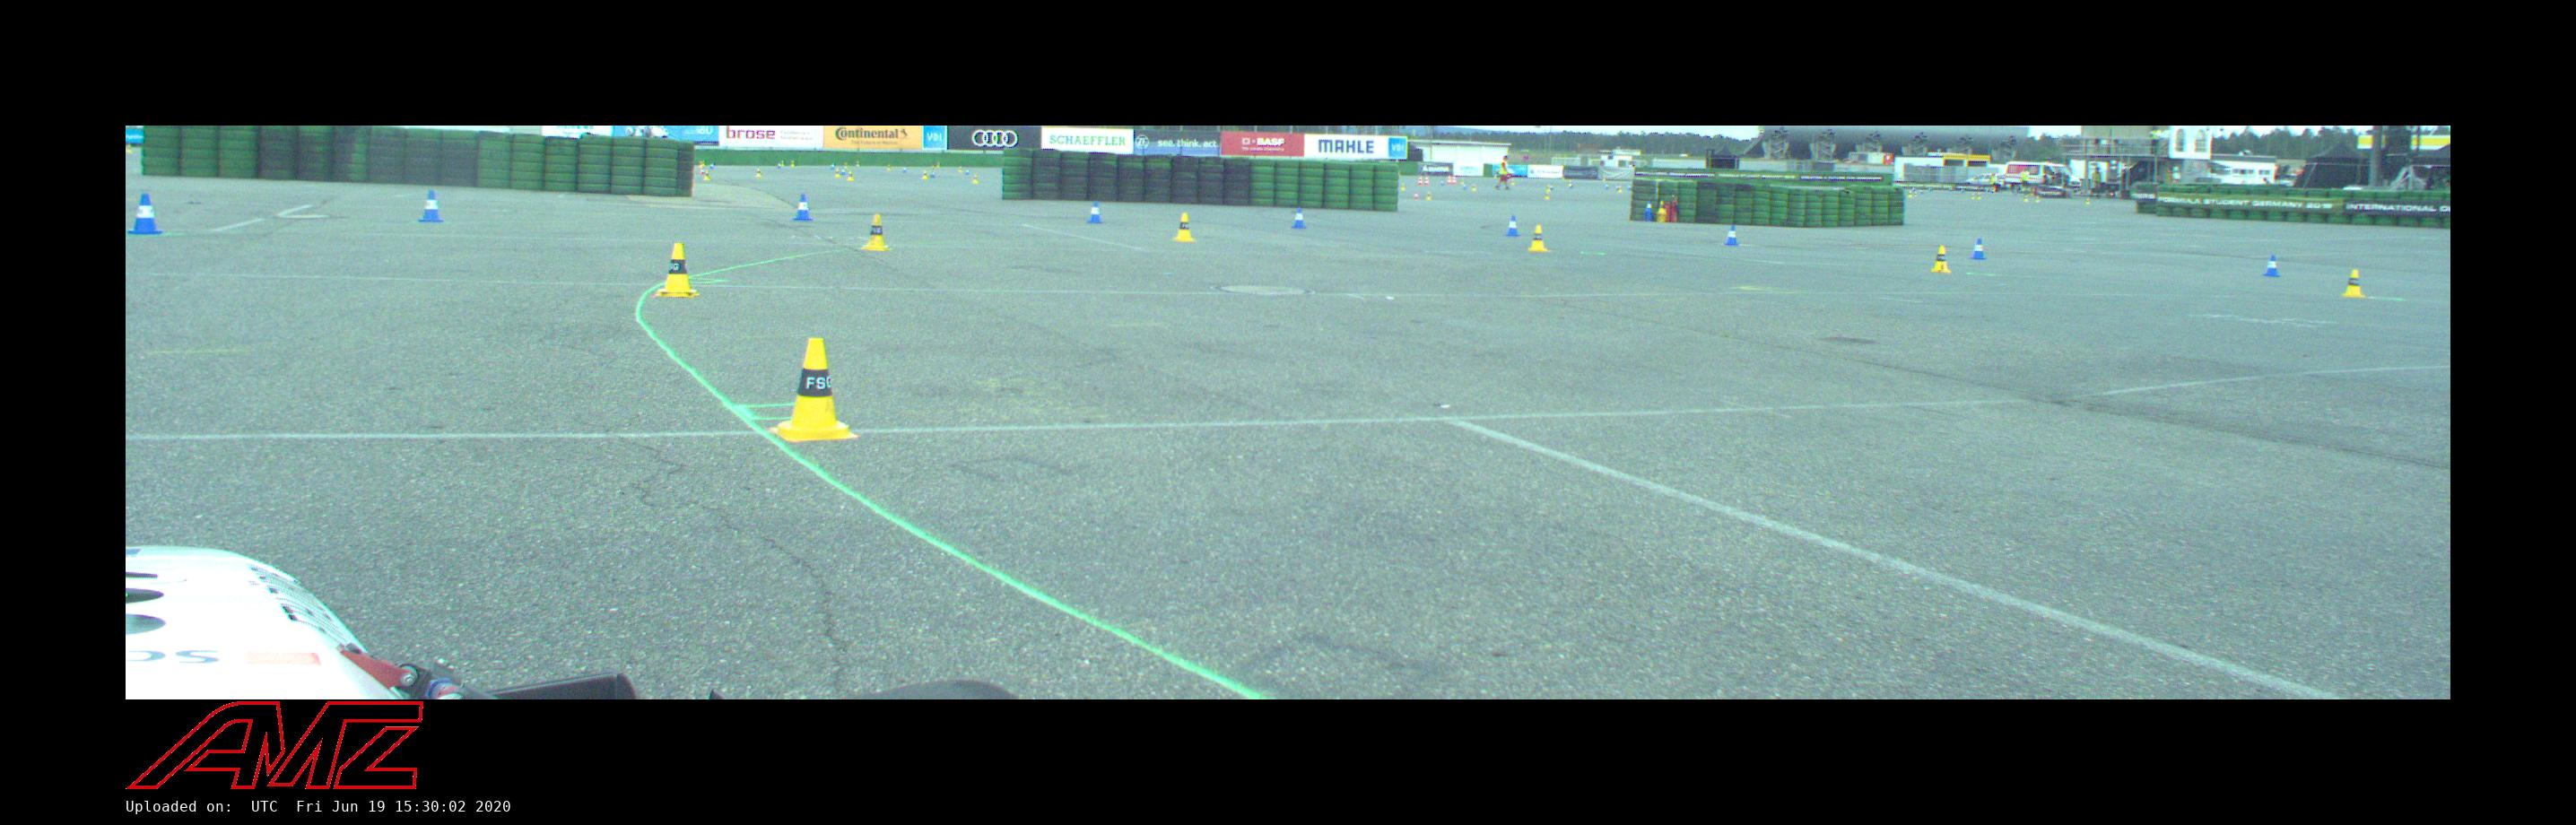blue_cone: (128, 194, 163, 233), (419, 191, 444, 222), (793, 194, 813, 220), (1968, 238, 1986, 260), (2264, 256, 2280, 278), (1088, 202, 1104, 224), (1291, 207, 1306, 228), (1505, 215, 1520, 237), (1725, 227, 1740, 247), (710, 163, 715, 169), (904, 166, 909, 173), (777, 163, 782, 169), (964, 169, 969, 174), (1605, 182, 1608, 189), (831, 164, 835, 169)
yellow_cone: (772, 339, 858, 442), (655, 243, 700, 297), (864, 214, 890, 251), (2343, 270, 2366, 297), (1175, 214, 1196, 242), (1528, 225, 1548, 251), (1930, 247, 1950, 273), (846, 171, 854, 181), (922, 171, 930, 179), (703, 171, 710, 181), (973, 174, 979, 184), (835, 169, 841, 177), (756, 169, 762, 176), (1544, 191, 1549, 199), (1546, 184, 1551, 192), (1426, 192, 1431, 200), (1617, 186, 1621, 192), (1472, 184, 1477, 191), (959, 166, 963, 173), (844, 163, 848, 169), (889, 164, 892, 171), (792, 161, 795, 166)
